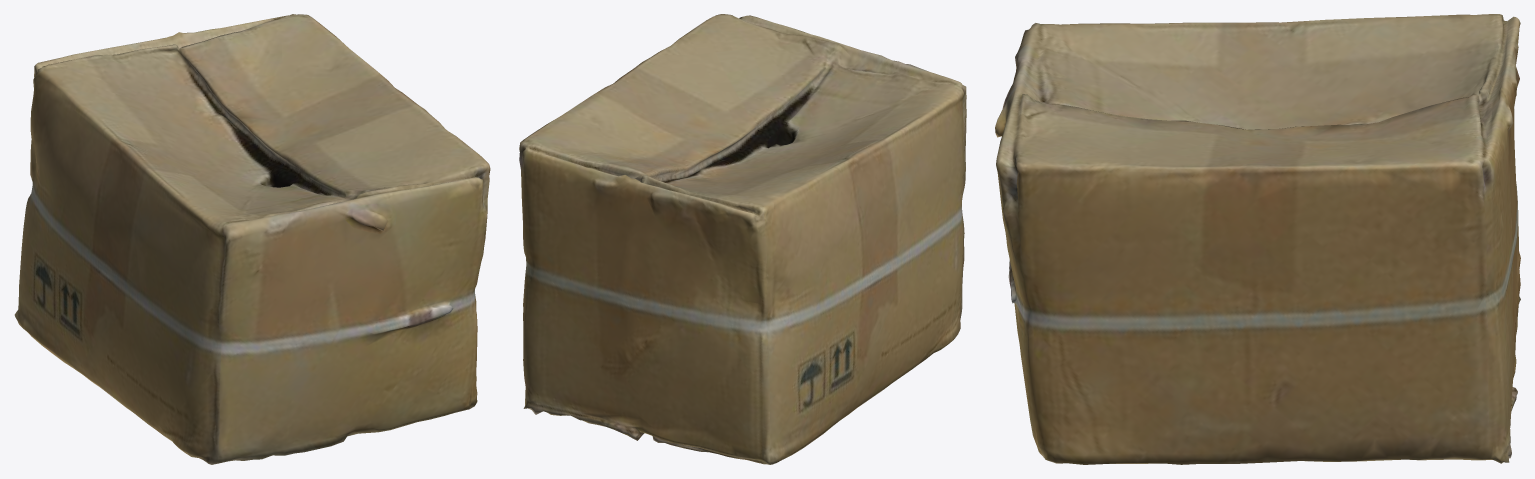
The model's file is cardboard_box_01.glb.
3 views of the same model, side by side, from view 1: azimuth 30°, elevation 25°; view 2: azimuth 150°, elevation 25°; view 3: azimuth 270°, elevation 25° (orthographic). The views are drawn at different scales.
Visible parts, largest first — view 1: cardboard_box_01; view 2: cardboard_box_01; view 3: cardboard_box_01.
Part boxes in pixels (bbox=[...]): cardboard_box_01: bbox=[14, 14, 490, 464]; cardboard_box_01: bbox=[519, 14, 966, 464]; cardboard_box_01: bbox=[995, 14, 1520, 464].
Size of the model in its own units: 0.3869 by 0.3418 by 0.5159.
Materials: 1 (1 with a texture image).
